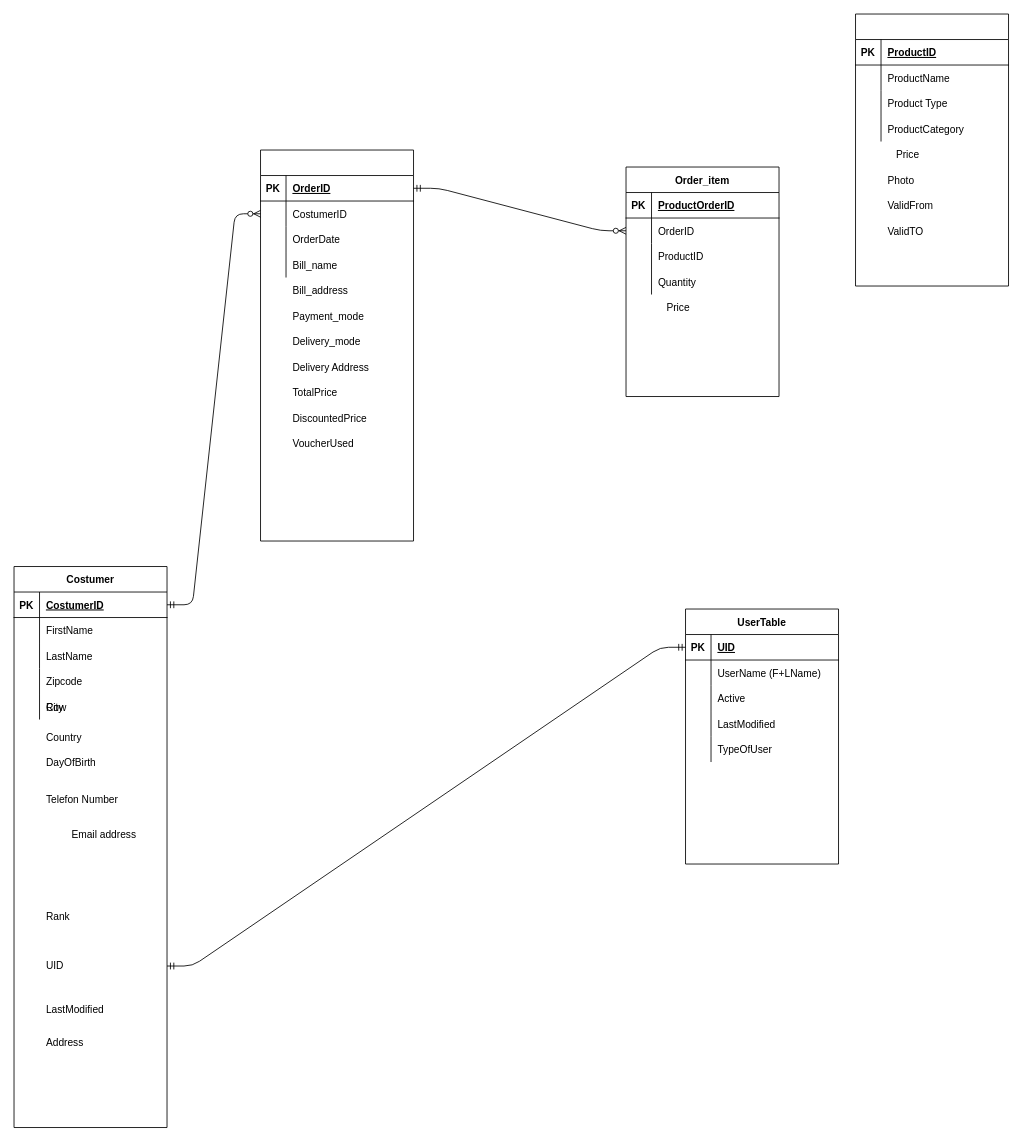
The diagram is 1031 pixels wide and 1142 high, and some of its shapes have lost their labels. Each missing label, with the box of its shape:
OrderHeader: (260, 149, 414, 541)
Products: (855, 13, 1009, 286)
